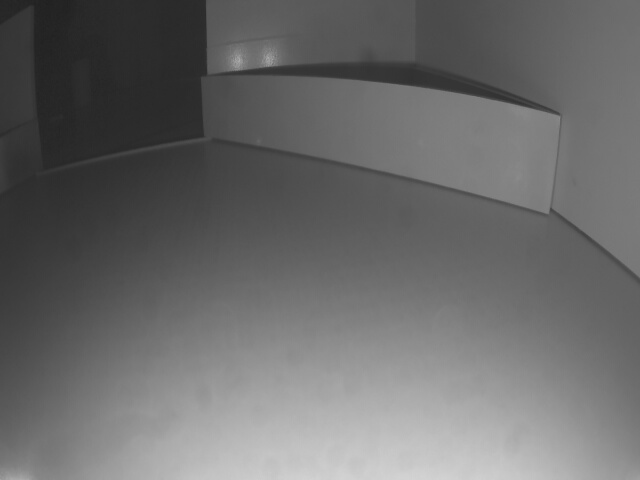Green: (0, 123, 37, 197)
Red: (199, 77, 561, 216)
